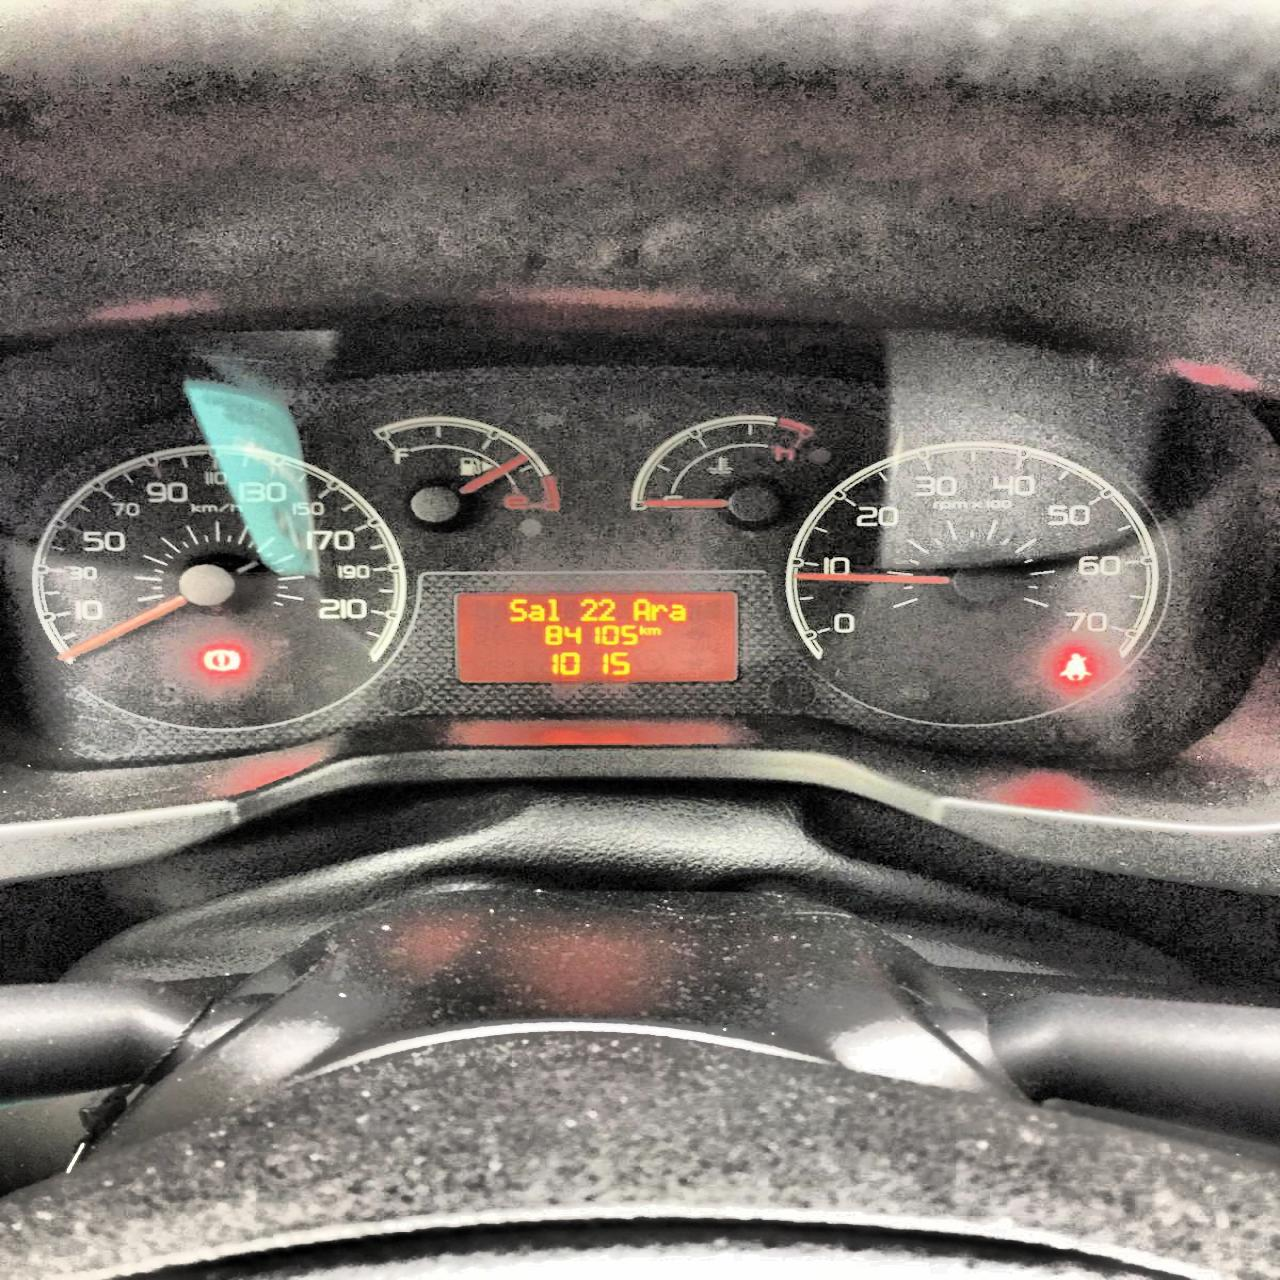0: (560, 651, 583, 676), (601, 622, 620, 646)
1: (547, 649, 559, 676), (598, 651, 608, 676), (591, 624, 599, 647)
2: (579, 597, 600, 621), (599, 595, 618, 620)
4: (561, 624, 581, 645)
5: (612, 651, 629, 675), (620, 624, 638, 645)
8: (544, 625, 563, 646)
X: (508, 595, 526, 622), (632, 597, 651, 620), (546, 595, 560, 622), (651, 602, 667, 620), (670, 601, 686, 620), (527, 601, 543, 620), (647, 626, 660, 636), (639, 625, 646, 635)
odometer: (454, 587, 742, 687)
